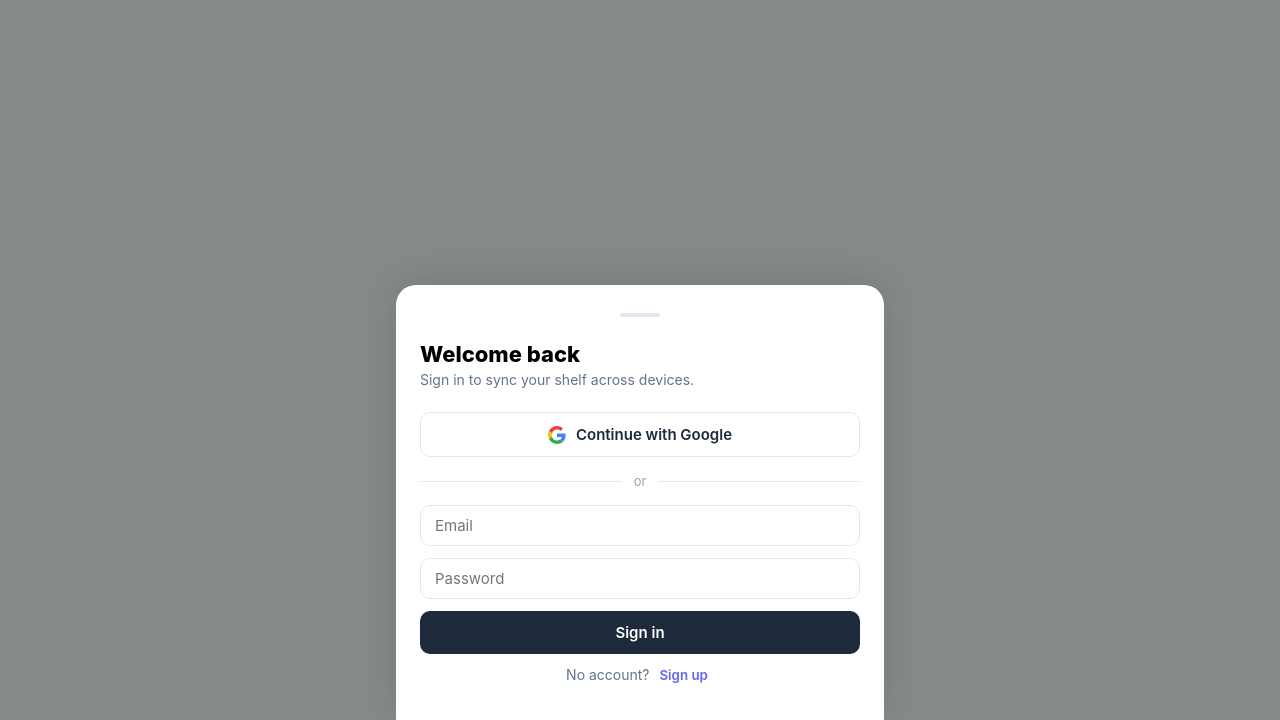
Test: LoginModal — sign-in mode › toggling to Sign up reveals the consent checkbox (pre-checked)
This screenshot has width=1280, height=720.
Click the button "Sign up" at (684, 675), box x1=653 y1=666 x2=714 y2=684
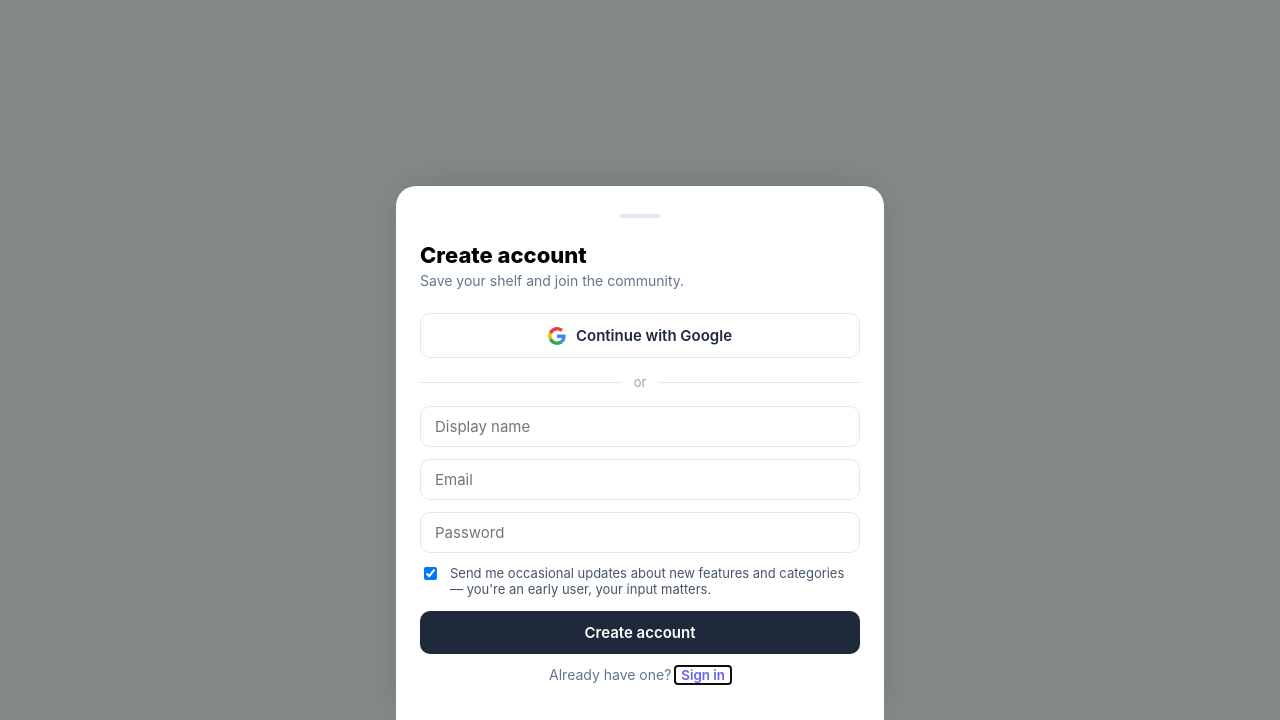
Check: the checkbox is checked, box x1=424 y1=567 x2=437 y2=580
Check: the text "early user" is shown, box x1=450 y1=565 x2=844 y2=597
